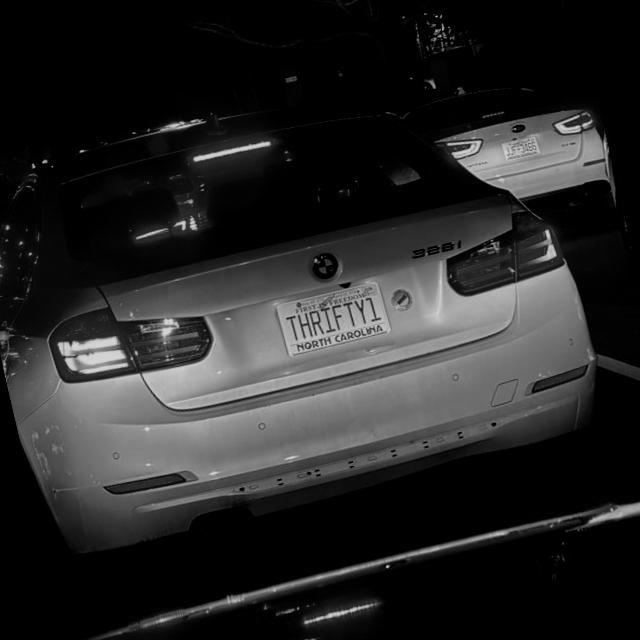LicensePlate: (273, 280, 392, 358)
